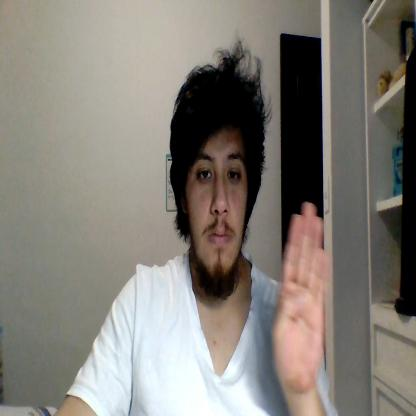B: (272, 202, 326, 392)
